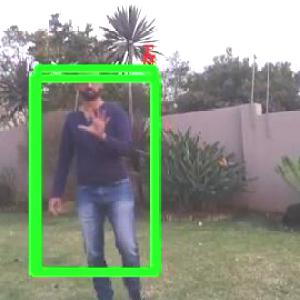follow_hand: (78, 100, 114, 142)
